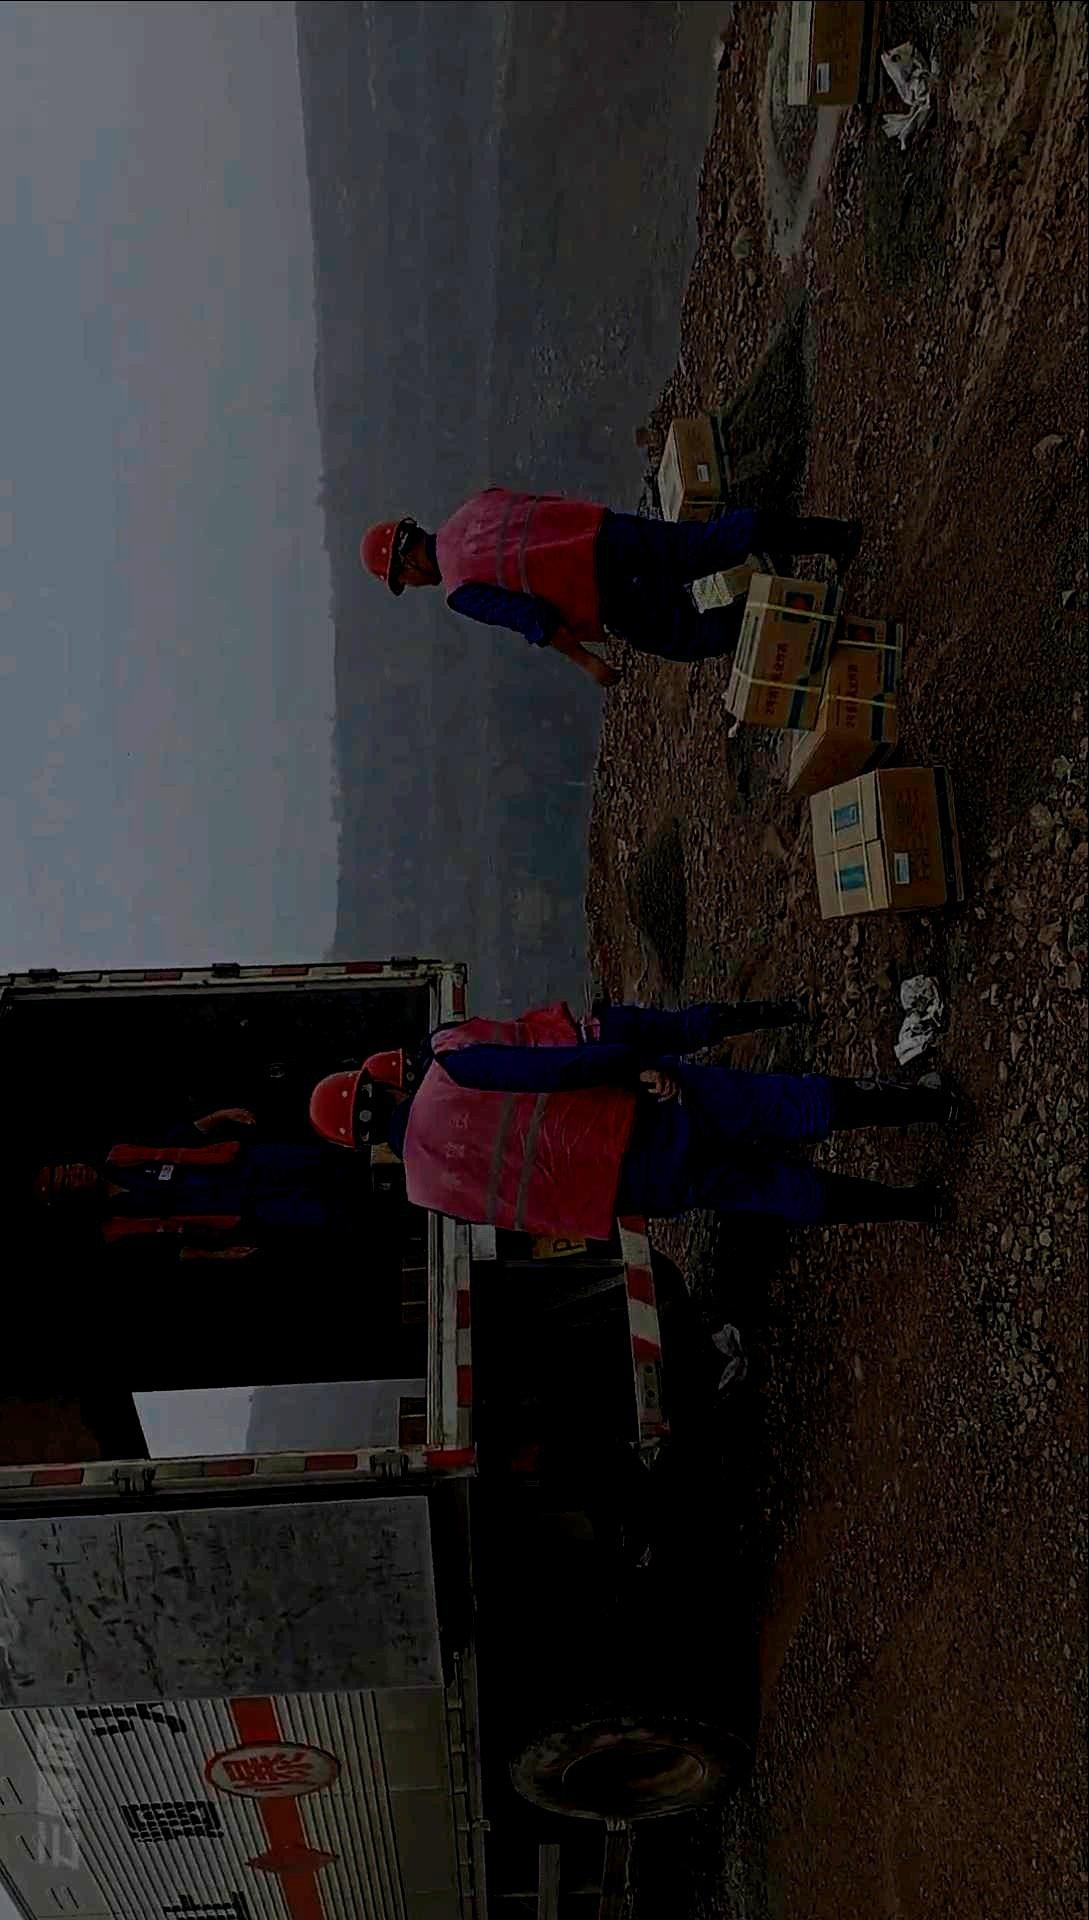helmet: (309, 1065, 406, 1150), (359, 516, 443, 597), (361, 1047, 421, 1089)
